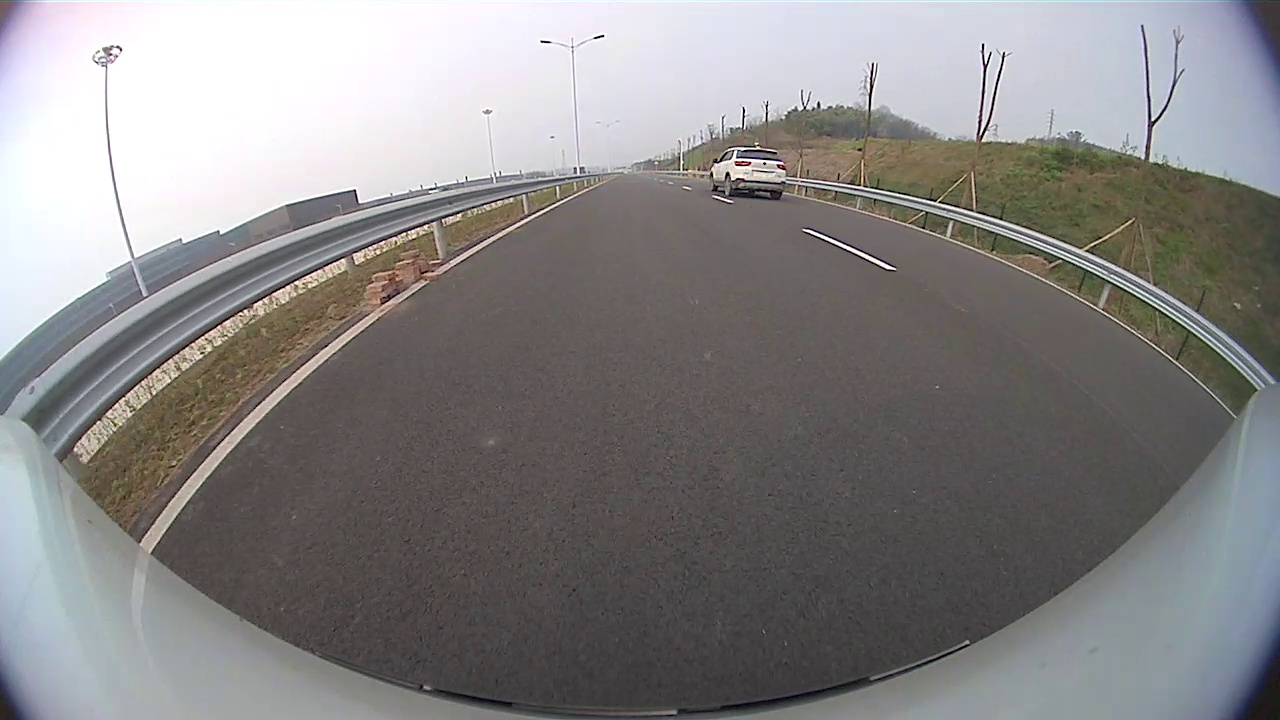car: (708, 146, 787, 201)
front: (708, 174, 718, 192)
rear: (722, 174, 736, 197)
